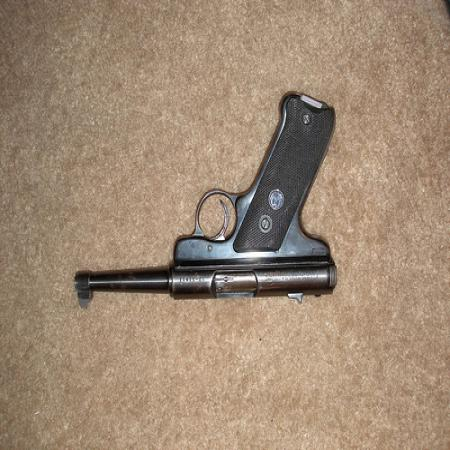Pistol: (74, 98, 342, 310)
